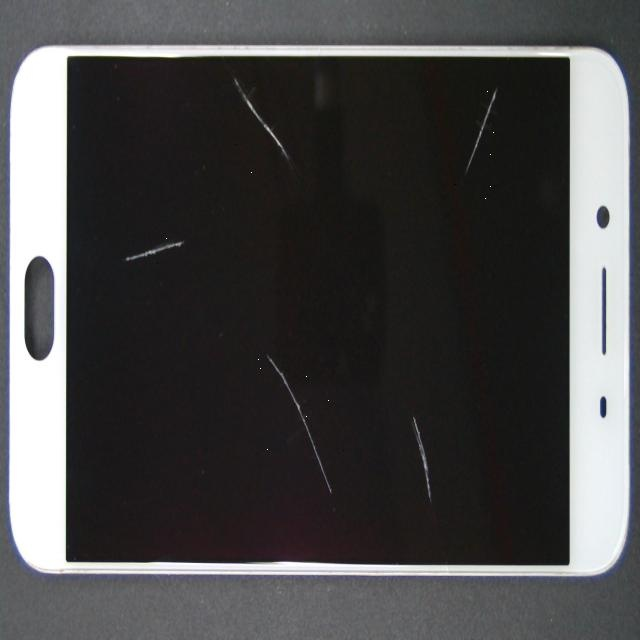scratch: (227, 239, 639, 627), (163, 262, 491, 640), (266, 4, 640, 158), (84, 0, 346, 158), (57, 145, 175, 435)
